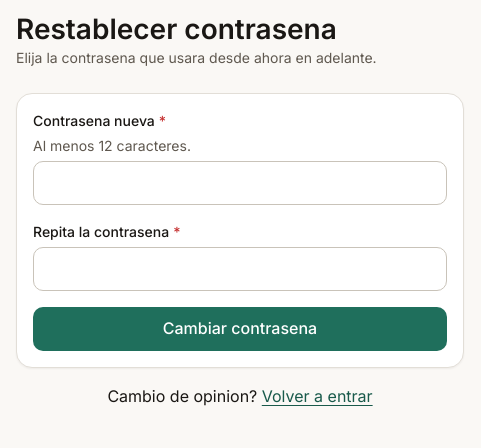
Test: validacion antes de viajar › el error se borra al seguir escribiendo
Step 1. Type "una contrasena larga y normal" into the password field labelled "Contrasena nueva*" → (240, 183), box left=33, top=161, right=447, bottom=205
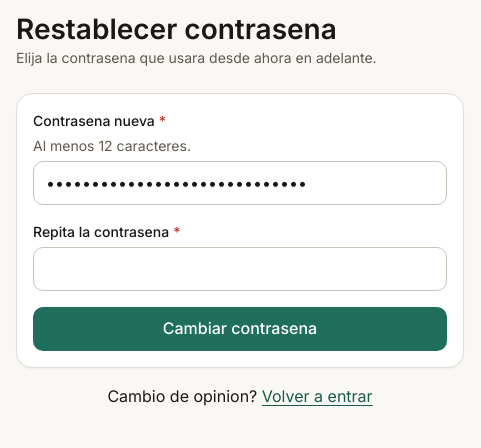
Step 2. Type "otra distinta" into the password field labelled "Repita la contrasena*" → (240, 269), box left=33, top=247, right=447, bottom=291
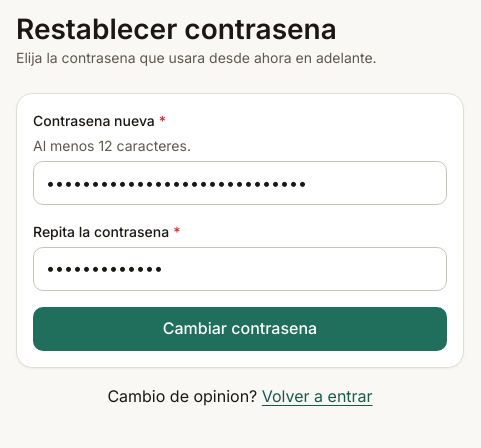
Step 3. Click the button "Cambiar contrasena" → (240, 329), box left=33, top=307, right=447, bottom=351
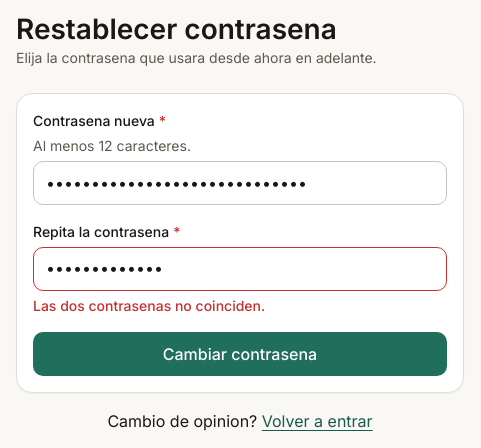
Now the message "Las dos contrasenas no coinciden." is shown, box left=33, top=297, right=265, bottom=314
Step 4. Type "una contrasena larga y normal" into the password field labelled "Repita la contrasena*" → (240, 269), box left=33, top=247, right=447, bottom=291
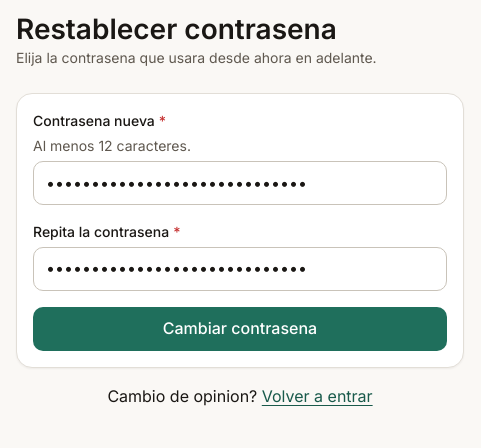
Now the message "Las dos contrasenas no coinciden." is gone
